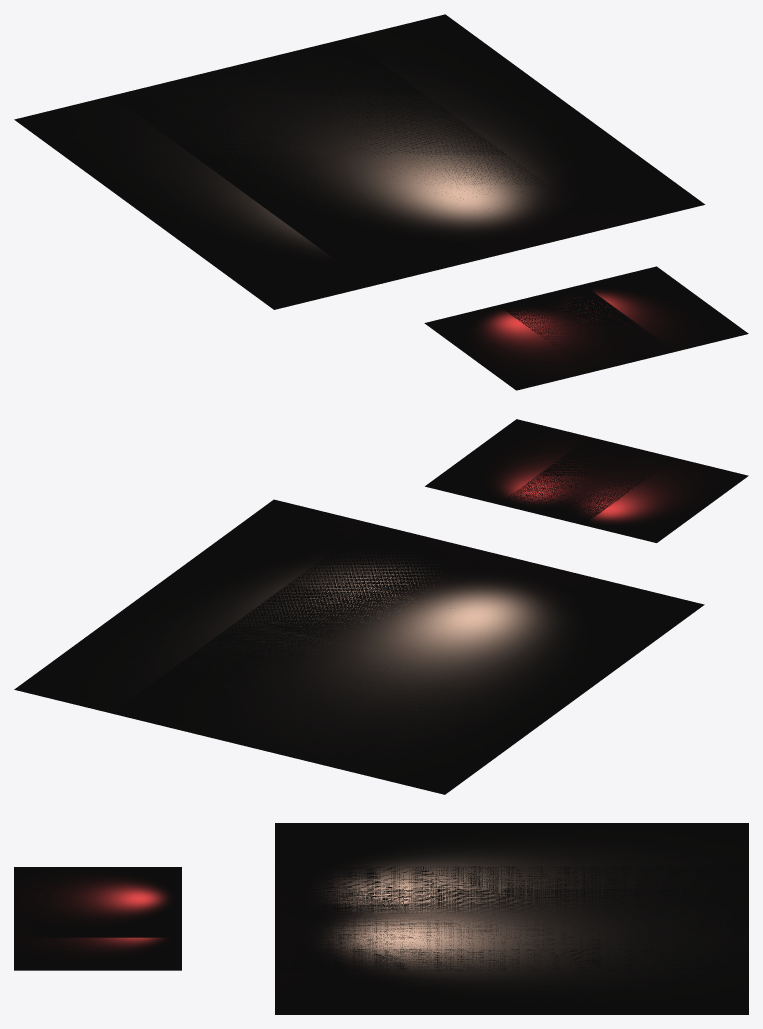
File: LightMesh_CarLight.fbx
The picture shows the model from 3 angles, top to bottom: view 1: azimuth 30°, elevation 25°; view 2: azimuth 150°, elevation 25°; view 3: azimuth 270°, elevation 25°; orthographic projection. The views are drawn at different scales.
Parts seen in each view (by area): view 1: U_LightMesh_CarLight; view 2: U_LightMesh_CarLight; view 3: U_LightMesh_CarLight.
Boxes of the visible parts, left/top/right/bottom form: U_LightMesh_CarLight: left=14, top=14, right=748, bottom=390; U_LightMesh_CarLight: left=14, top=419, right=748, bottom=794; U_LightMesh_CarLight: left=14, top=823, right=748, bottom=1014.
Size of the model in its own units: 1029 by 0.000324 by 1667.
1 material, 1 textured.
